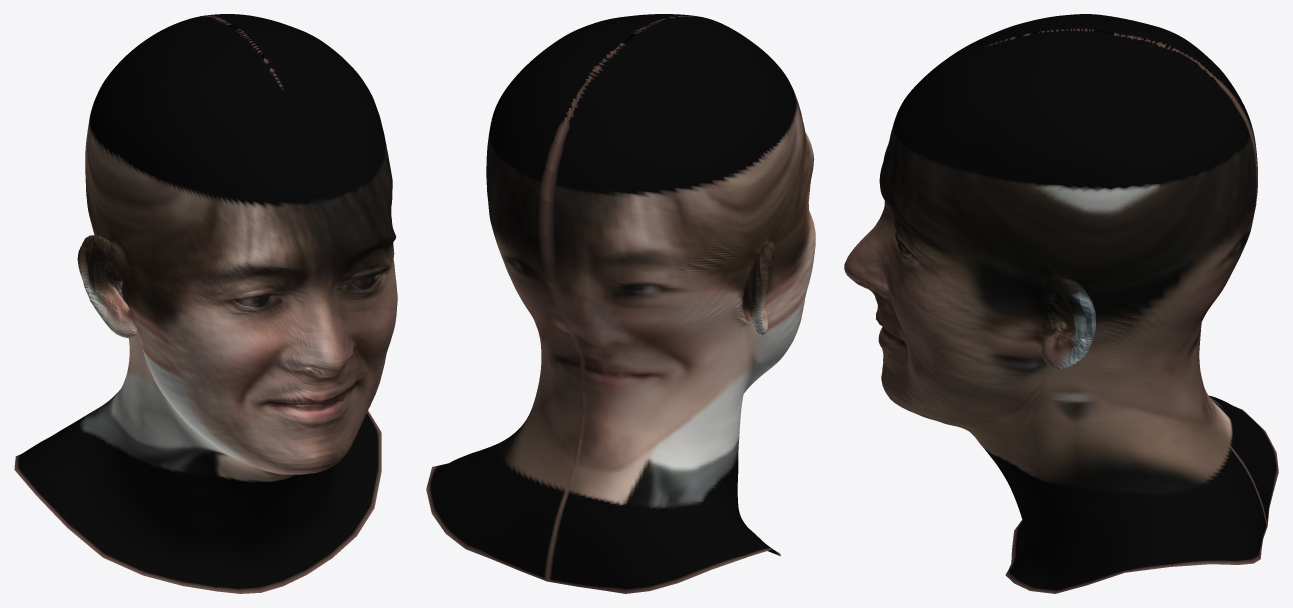
File: mesh_coarse_detail.obj
The picture shows the model from 3 angles, left to right: view 1: azimuth 30°, elevation 25°; view 2: azimuth 150°, elevation 25°; view 3: azimuth 270°, elevation 25°; orthographic projection. The views are drawn at different scales.
Size of the model in its own units: 0.213 by 0.3226 by 0.2345.
